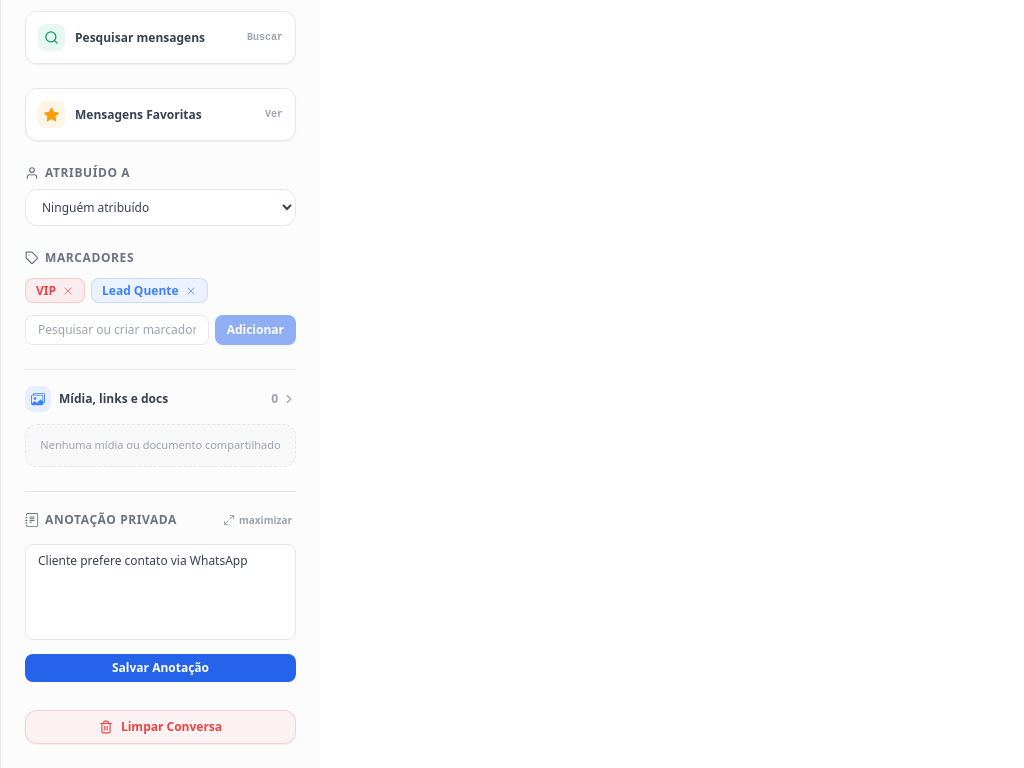
Test case: ChatContactSidebar and Subcomponents › Main ChatContactSidebar Integration › opens maximized note modal on click
(page scrolled)
Click the button titled "Maximizar tela para digitar anotação com mais espaço".
click(258, 520)  # box [219, 508, 296, 532]
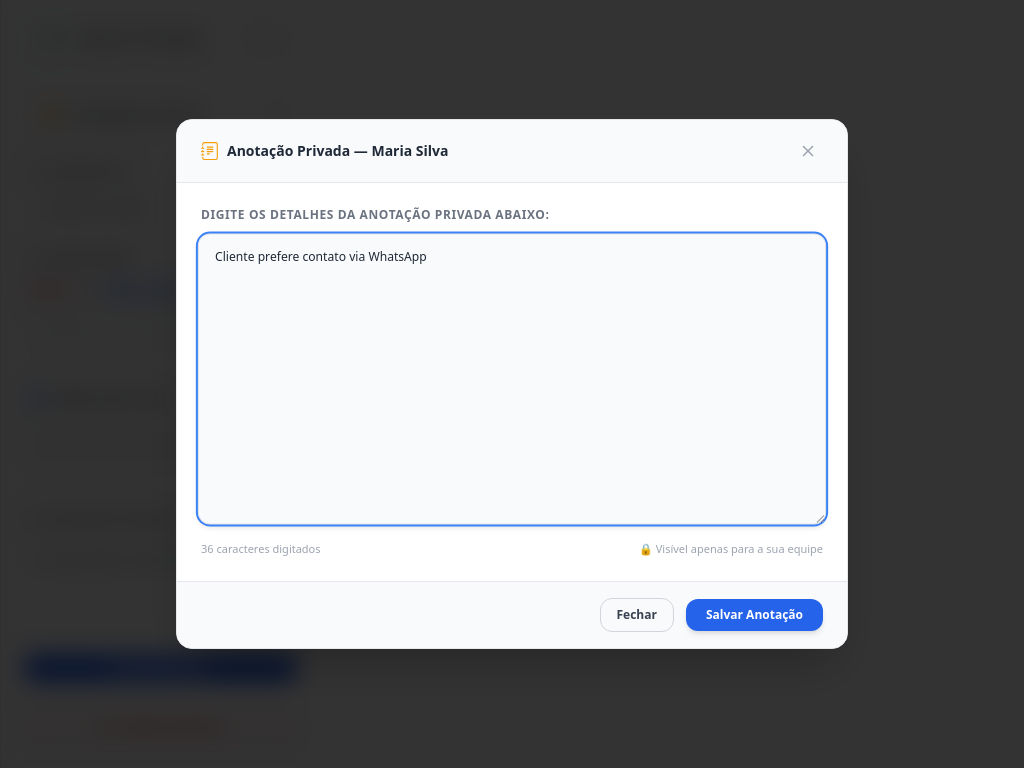
expect the text "Anotação Privada — Maria Silva" is shown: met, box [227, 141, 448, 161]
